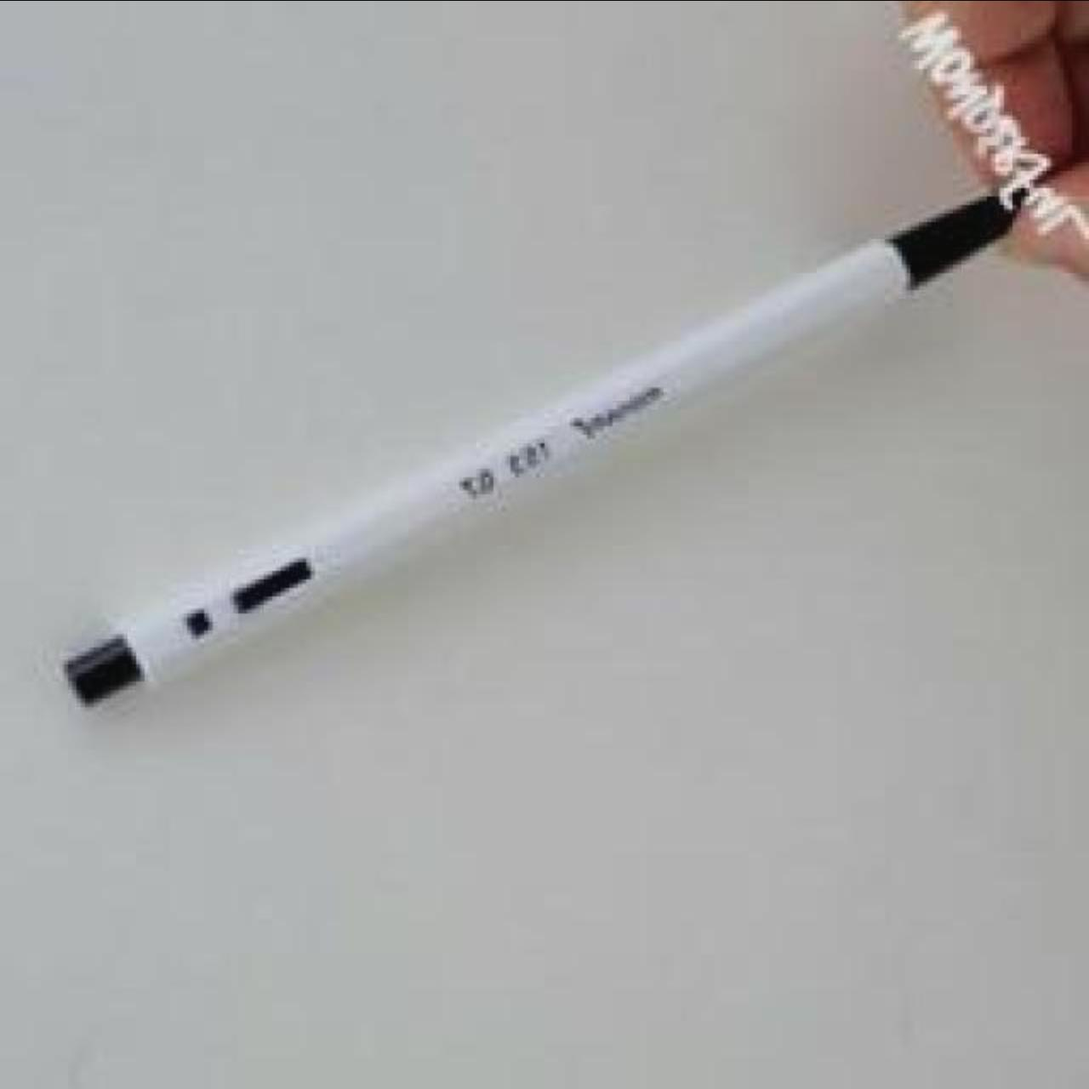pen: (56, 187, 1023, 728)
